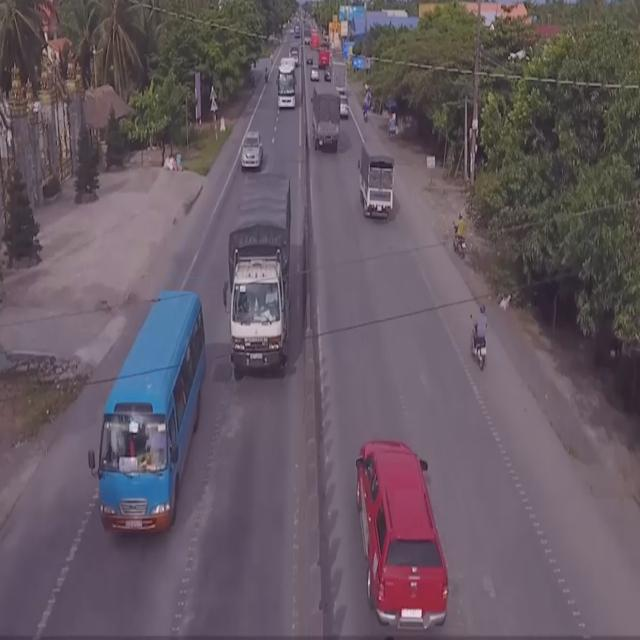bus: (92, 288, 209, 540), (276, 55, 298, 107)
car: (354, 435, 446, 635), (242, 127, 266, 168)
motorbike: (470, 304, 490, 372), (452, 213, 468, 261)
truck: (227, 168, 294, 384), (358, 145, 395, 222), (310, 85, 343, 152)
